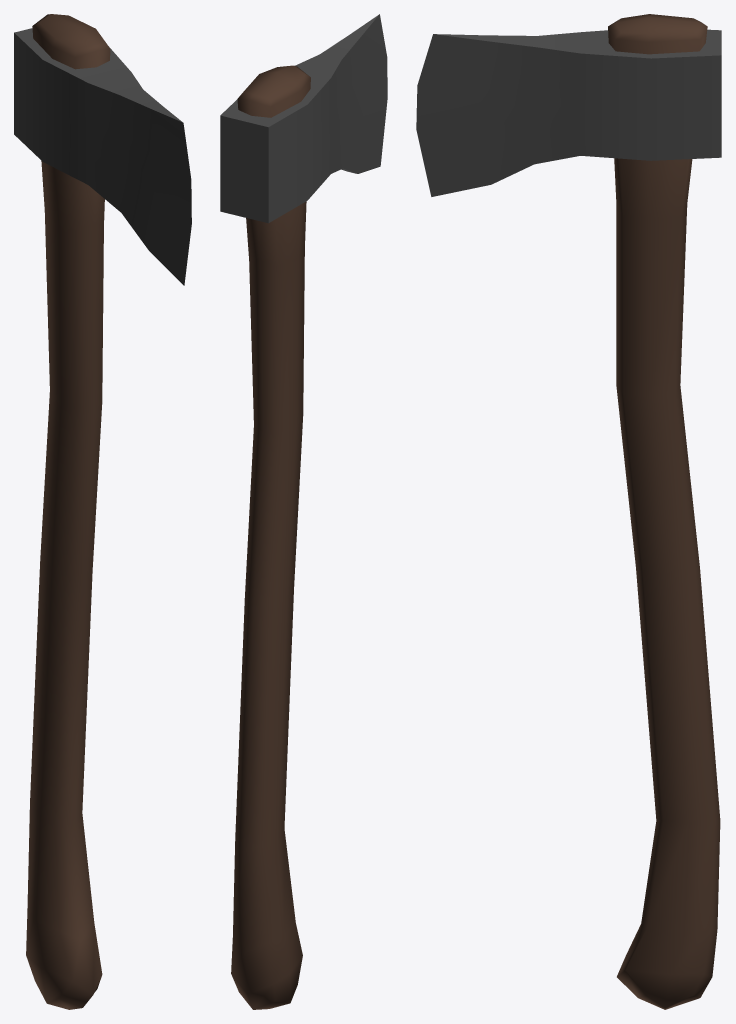
The model's file is S_Axe.fbx.
The picture shows the model from 3 angles, left to right: view 1: azimuth 30°, elevation 25°; view 2: azimuth 150°, elevation 25°; view 3: azimuth 270°, elevation 25°; orthographic projection. The views are drawn at different scales.
Parts seen in each view (by area): view 1: S_Axe; view 2: S_Axe; view 3: S_Axe.
Part boxes in pixels (x1,y1,x2,y2): S_Axe: (14,14,191,1009); S_Axe: (220,14,387,1009); S_Axe: (416,14,721,1009).
Bounding box in the file's own units: 6.2 × 91.39 × 25.49.
